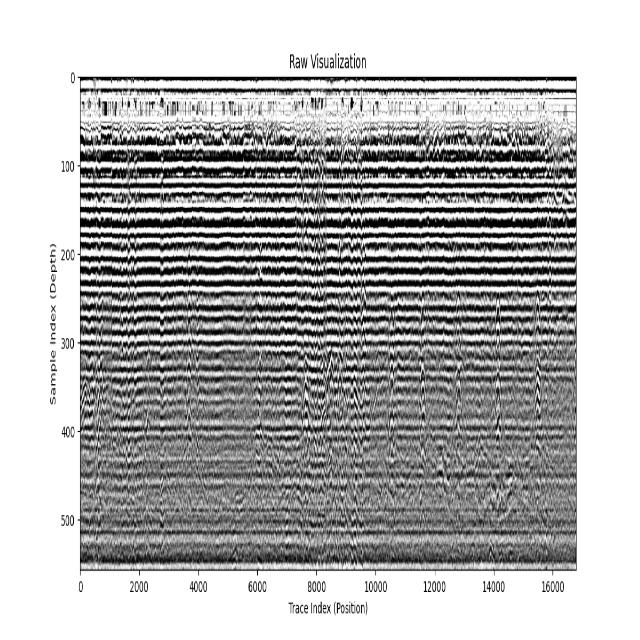anomaly: (460, 465, 552, 533), (325, 358, 370, 444), (81, 375, 113, 434), (300, 358, 311, 438)
